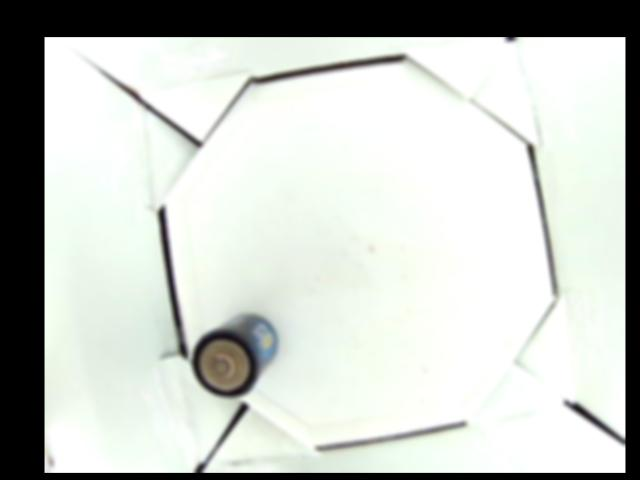Battery: (188, 314, 277, 398)
